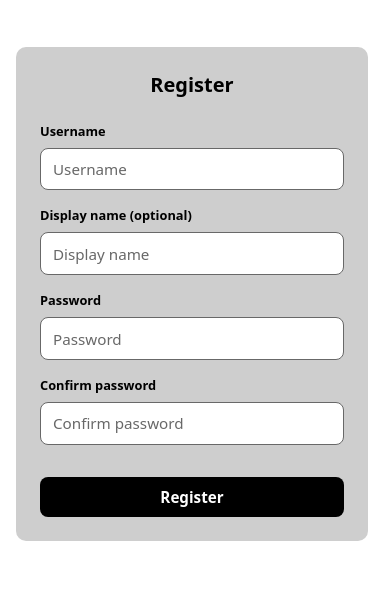
Scenario: RegisterPage › rejects password mismatch locally
This screenshot has width=385, height=589.
In the field labelled "Username": (192, 169) [40,148,344,190], type "tester"
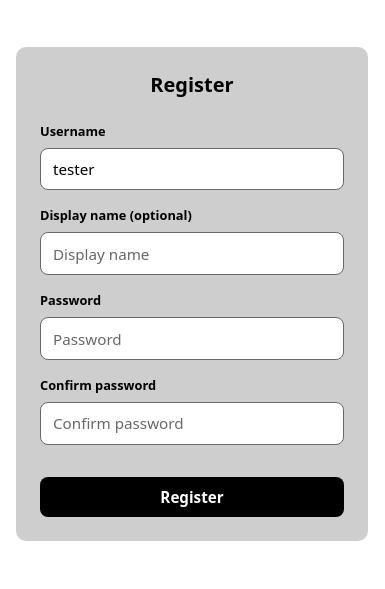
In the password field labelled "Password": (192, 338) [40,317,344,360], type "password"
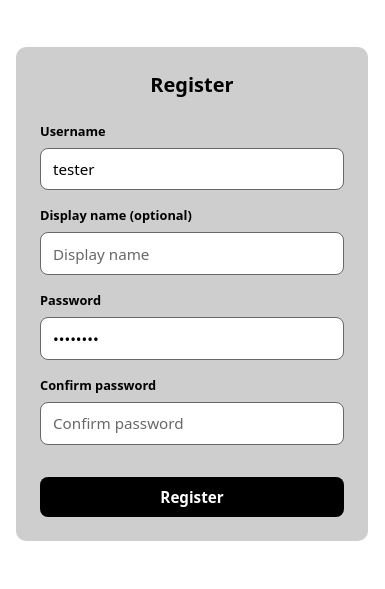
In the password field labelled "Confirm password": (192, 423) [40,402,344,445], type "different"
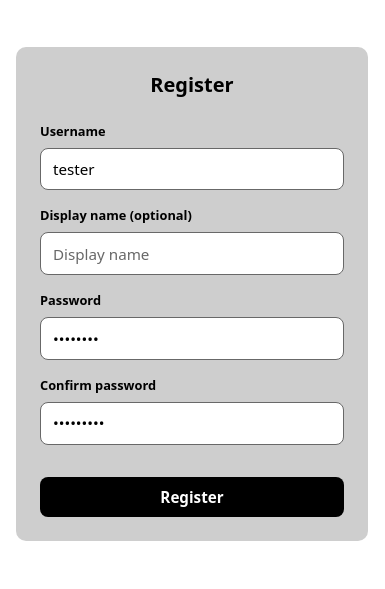
Submit the form with id "login-form"
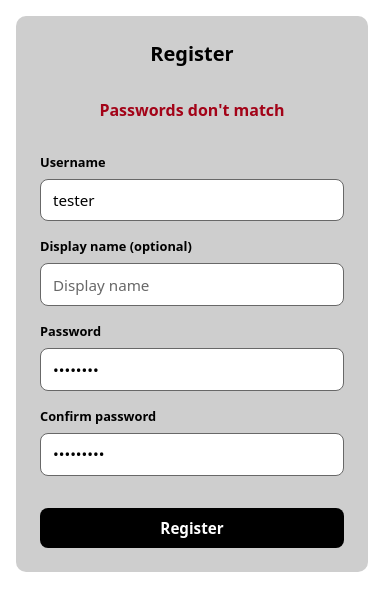
Now the text "Passwords don't match" is shown, box [99,98,285,120]
